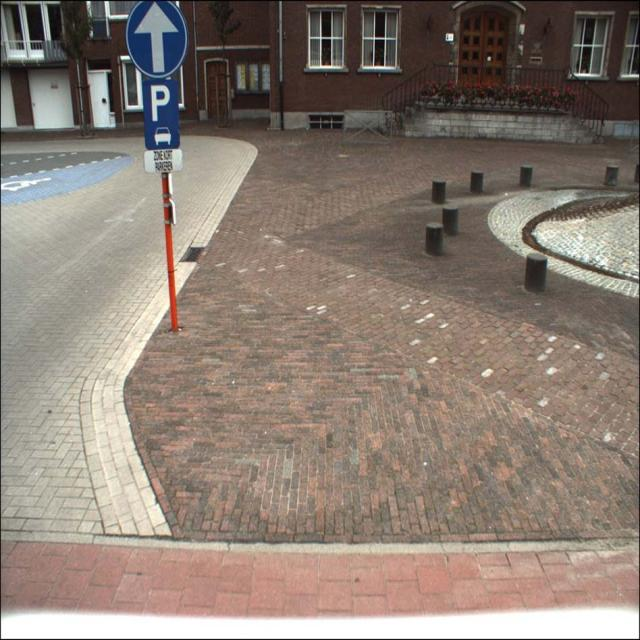park: (142, 79, 179, 125)
